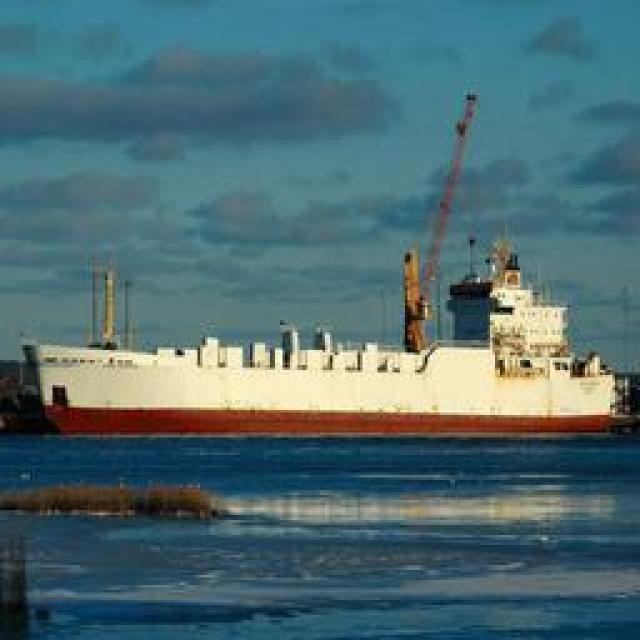CIV_Ship: (32, 222, 626, 440)
